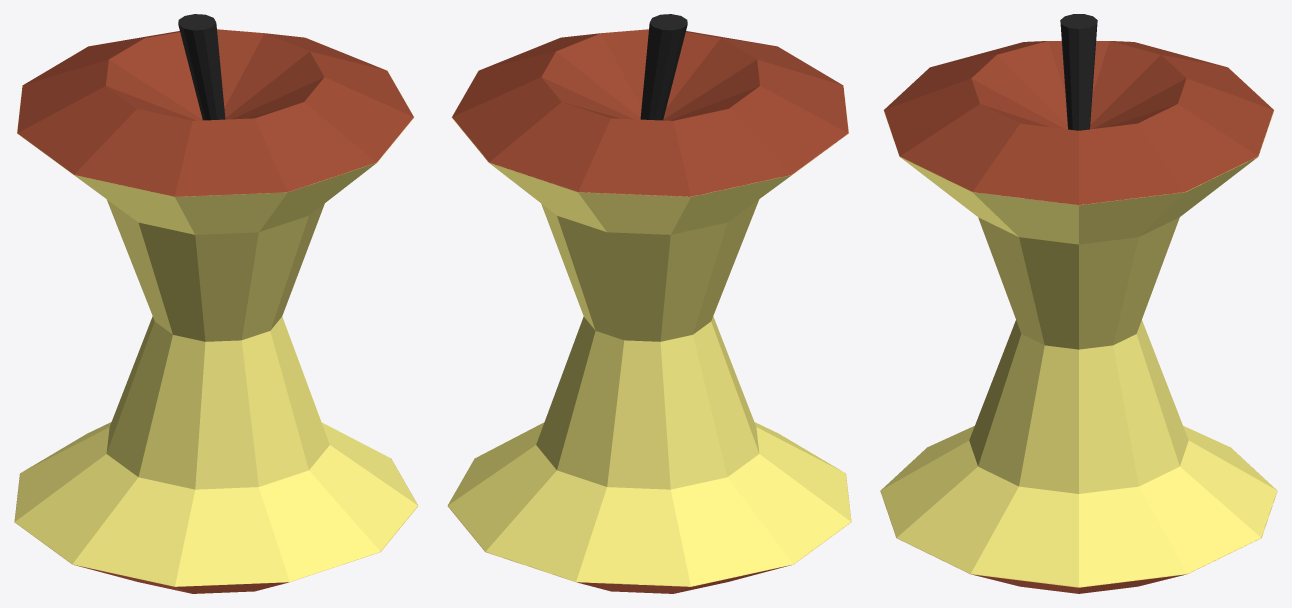
The model's file is ogrizok.fbx.
3 renders of one model, left to right at view 1: azimuth 30°, elevation 25°; view 2: azimuth 150°, elevation 25°; view 3: azimuth 270°, elevation 25°, orthographic. The views are drawn at different scales.
Visible parts, largest first — view 1: ogrizok1; view 2: ogrizok1; view 3: ogrizok1.
Part boxes in pixels (box(x1,y1,x2,y2)): ogrizok1: box(14, 14, 418, 593); ogrizok1: box(447, 14, 851, 593); ogrizok1: box(880, 14, 1277, 593).
Bounding box in the file's own units: 37.5 × 54.58 × 37.88.
1 material, 1 textured.
